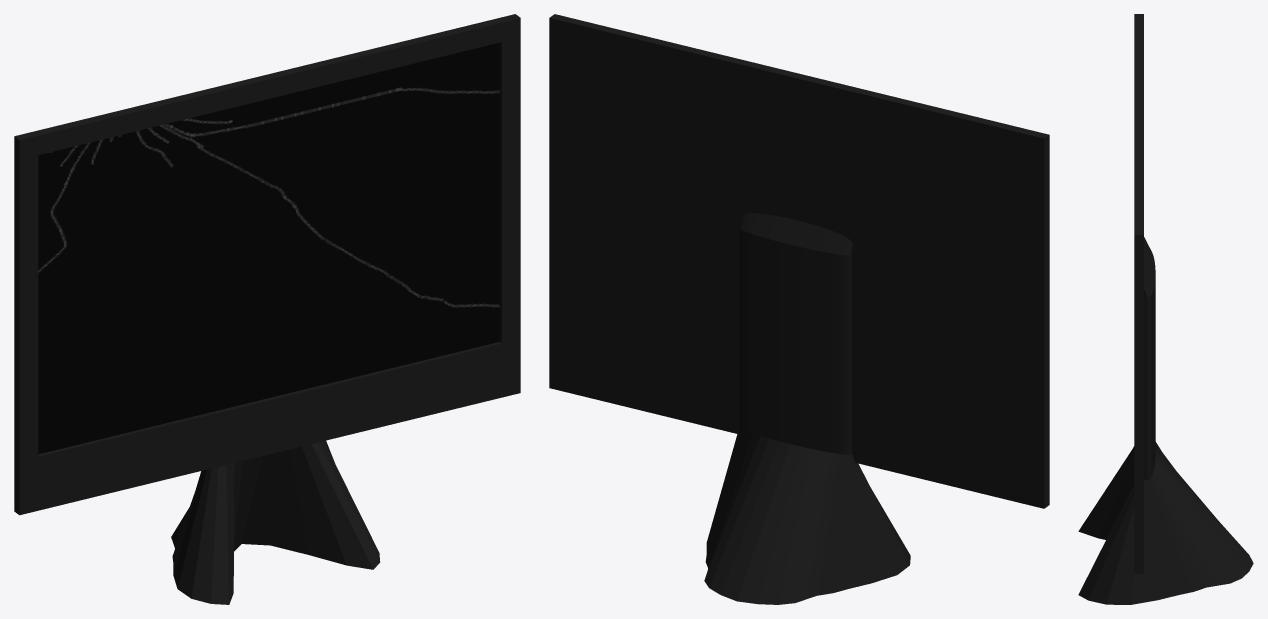
The model's file is screen.fbx.
The picture shows the model from 3 angles, left to right: view 1: azimuth 30°, elevation 25°; view 2: azimuth 150°, elevation 25°; view 3: azimuth 270°, elevation 25°; orthographic projection. The views are drawn at different scales.
Parts seen in each view (by area): view 1: Plane, Cube, Cylinder.005; view 2: Cube, Cylinder.005; view 3: Cylinder.005, Cube.
Boxes of the visible parts, <box> form: Plane: <box>38,42,499,454</box>; Cube: <box>14,14,520,515</box>; Cylinder.005: <box>171,440,380,604</box>; Cube: <box>549,14,1049,508</box>; Cylinder.005: <box>704,213,910,604</box>; Cylinder.005: <box>1078,237,1253,604</box>; Cube: <box>1134,14,1143,573</box>.
Bounding box in the file's own units: 888 × 822 × 298.
